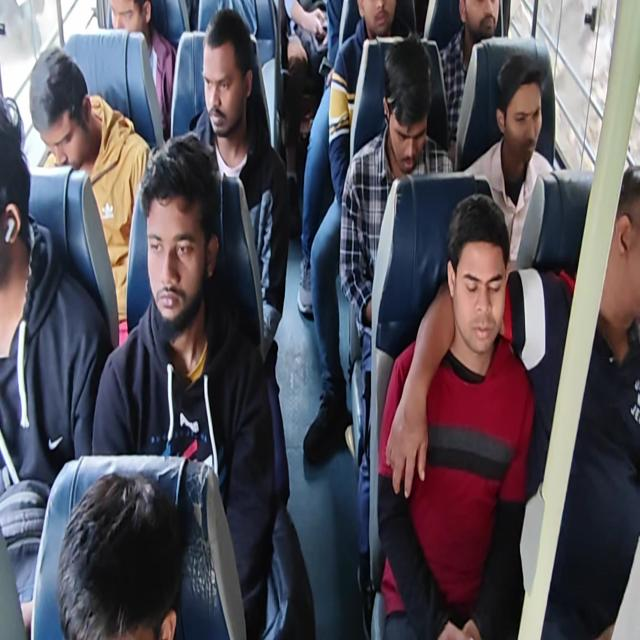person: (48, 466, 191, 640), (136, 132, 224, 339), (23, 36, 109, 182), (447, 187, 506, 356), (199, 6, 254, 153), (595, 156, 640, 333), (379, 34, 434, 168), (493, 50, 552, 164), (1, 88, 26, 306), (104, 1, 158, 42), (460, 1, 512, 42), (358, 0, 407, 36)
